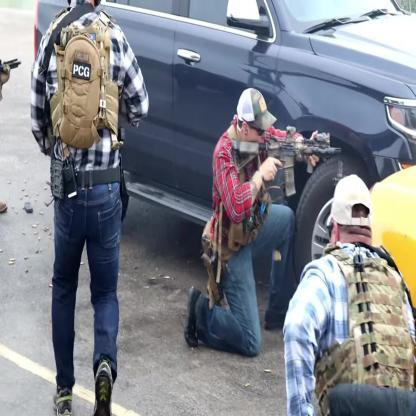Gun: (233, 122, 343, 203)
